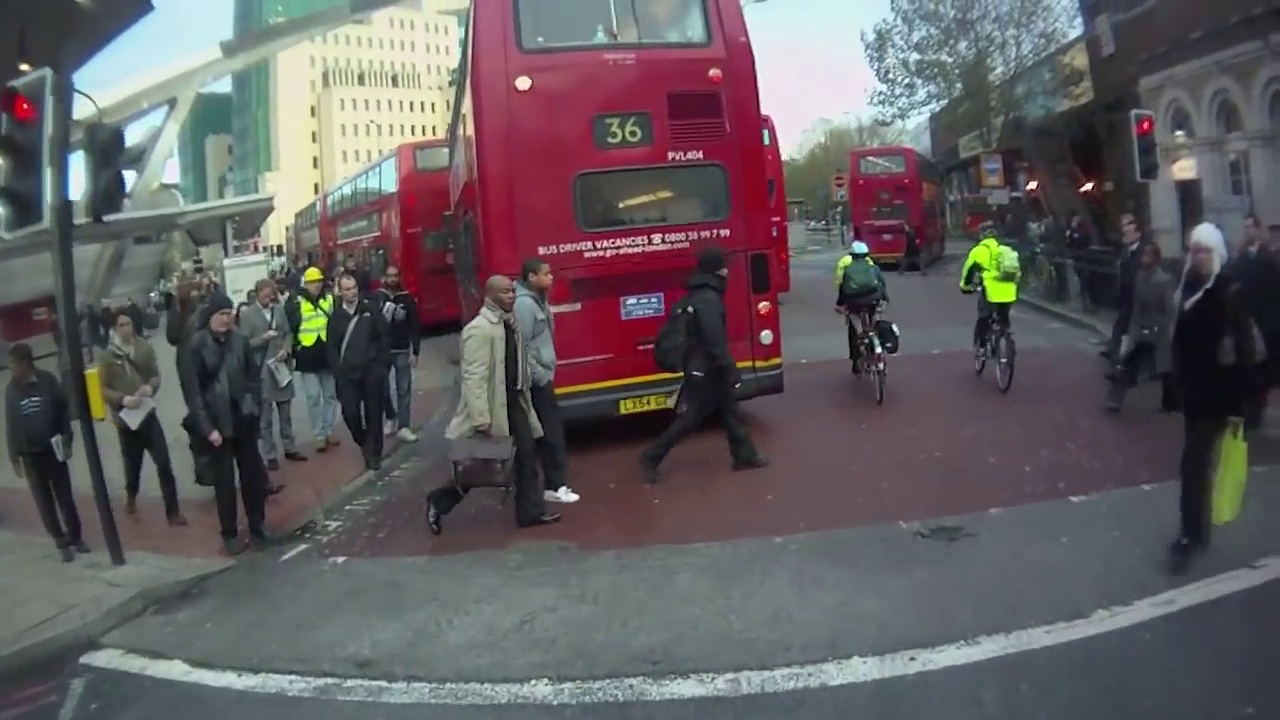cyclist_back: (826, 232, 910, 419), (963, 217, 1025, 396)
